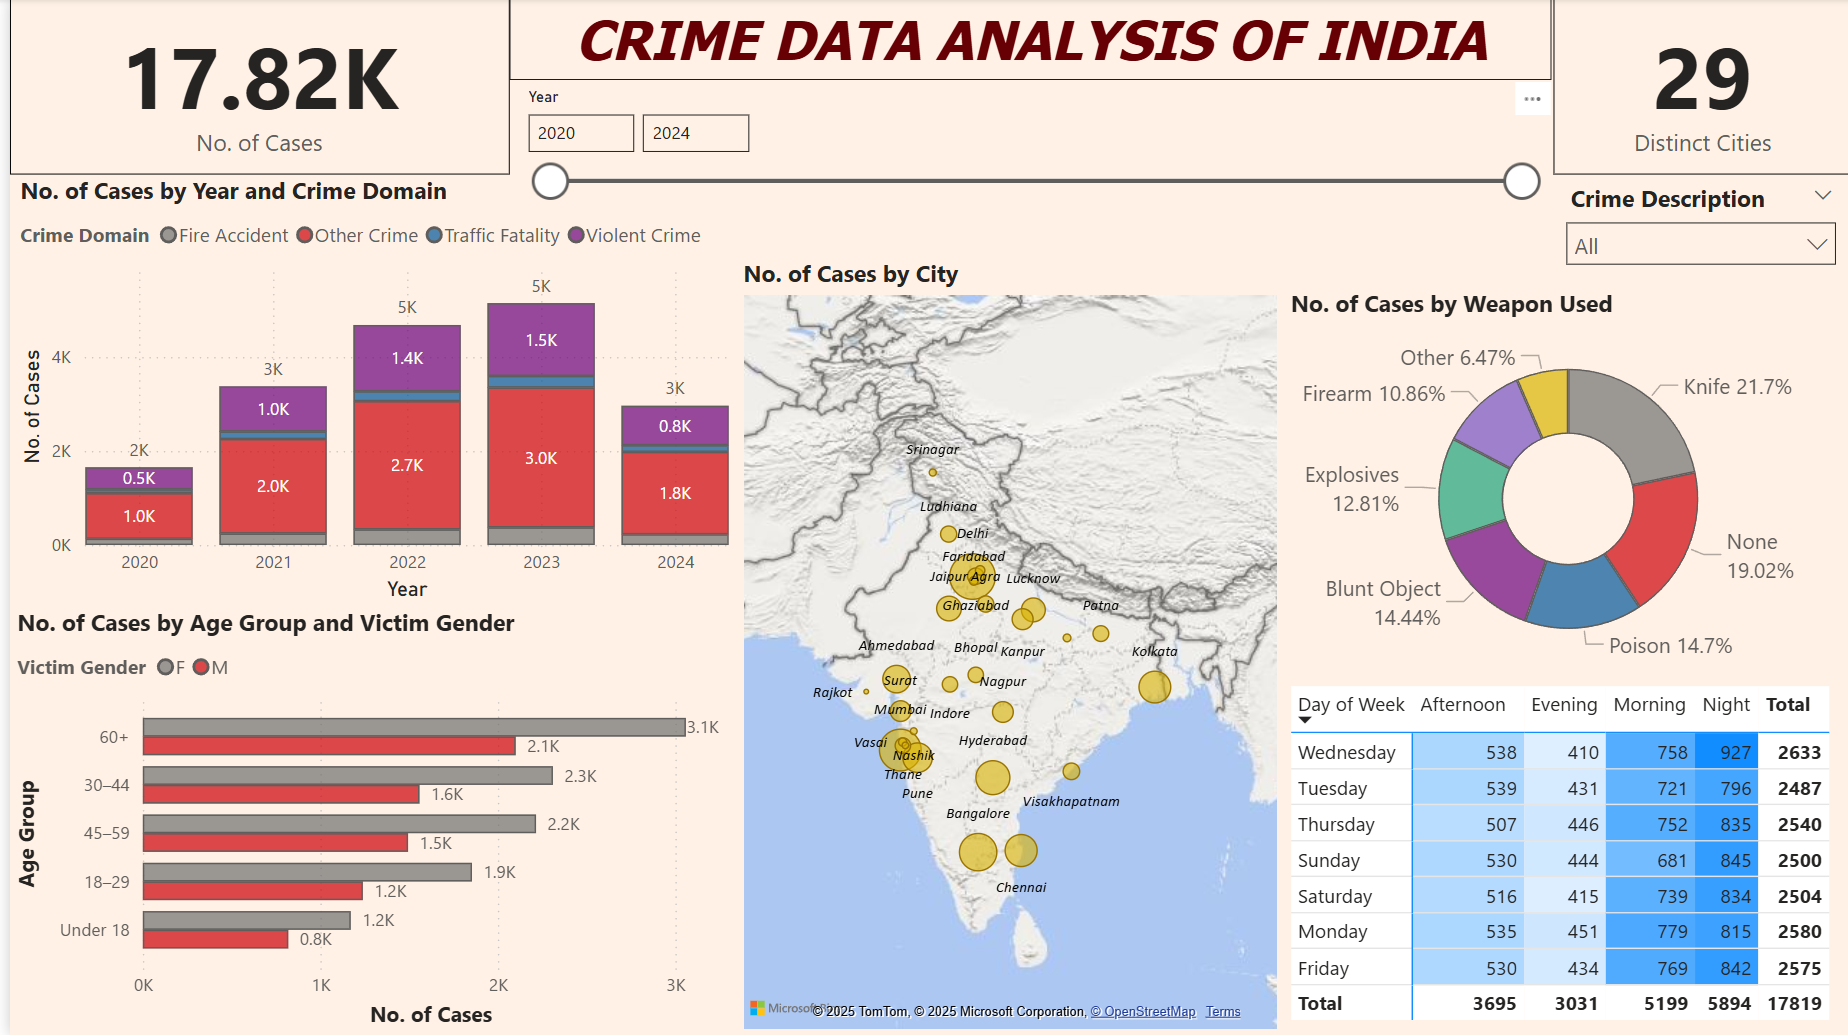

What the dashboard file says about the page in this screenshot:
{"tool":"powerbi","page":{"name":"Page 1","canvas":[1280,720],"ordinal":0},"visuals":[{"type":"columnChart","fields":{"Series":["crime_dataset_india.Crime Domain"],"Category":["crime_dataset_india.Date Reported.Variation.Date Hierarchy.Year"],"Y":["crime_dataset_india.No. of Cases"]},"box":[2.2,122.3,502.1,300.2],"z":0},{"type":"map","fields":{"Category":["crime_dataset_india.City"],"Size":["crime_dataset_india.No. of Cases"]},"box":[504.3,179,380.9,541.4],"z":1000},{"type":"slicer","fields":{"Values":["crime_dataset_india.Crime Description"]},"box":[1071.9,122.3,207.4,73.1],"z":2000},{"type":"clusteredBarChart","fields":{"Category":["crime_dataset_india.Age Group"],"Y":["crime_dataset_india.No. of Cases"],"Series":["crime_dataset_india.Victim Gender"]},"box":[0,422.4,504.5,297.7],"z":3000},{"type":"card","fields":{"Values":["crime_dataset_india.No. of Cases"]},"box":[0,0,347.1,122.3],"z":5000},{"type":"pivotTable","fields":{"Rows":["crime_dataset_india.Day of Week"],"Values":["crime_dataset_india.No. of Cases"],"Columns":["crime_dataset_india.Time Range"]},"box":[885.3,472.8,395.1,247.3],"z":6000},{"type":"textbox","box":[347.1,0,724.8,56.8],"z":7000},{"type":"card","fields":{"Values":["crime_dataset_india.Distinct Cities"]},"box":[1073,0,207.4,122.3],"z":8000},{"type":"slicer","fields":{"Values":["crime_dataset_india.Date Reported.Variation.Date Hierarchy.Year"]},"box":[347.1,56.8,724.8,122.3],"z":9000},{"type":"donutChart","fields":{"Category":["crime_dataset_india.Weapon Used"],"Y":["crime_dataset_india.No. of Cases"]},"box":[885.3,200.3,395.1,272.5],"z":10000}]}

Visuals, with their boxes in screenshot pixels (x1, y1, x2, y2), scaled from the page's 1280x720 canvas onto the 1848x1035 screenshot:
columnChart - crime_dataset_india.Crime Domain x crime_dataset_india.Date Reported.Variation.Date Hierarchy.Year: 3/176/728/607
map - crime_dataset_india.City x crime_dataset_india.No. of Cases: 728/257/1278/1034
slicer - crime_dataset_india.Crime Description: 1548/176/1847/281
clusteredBarChart - crime_dataset_india.Age Group x crime_dataset_india.No. of Cases: 0/607/728/1034
card - crime_dataset_india.No. of Cases: 0/0/501/176
pivotTable - crime_dataset_india.Day of Week x crime_dataset_india.No. of Cases: 1278/680/1847/1034
textbox: 501/0/1548/82
card - crime_dataset_india.Distinct Cities: 1549/0/1847/176
slicer - crime_dataset_india.Date Reported.Variation.Date Hierarchy.Year: 501/82/1548/257
donutChart - crime_dataset_india.Weapon Used x crime_dataset_india.No. of Cases: 1278/288/1847/680
